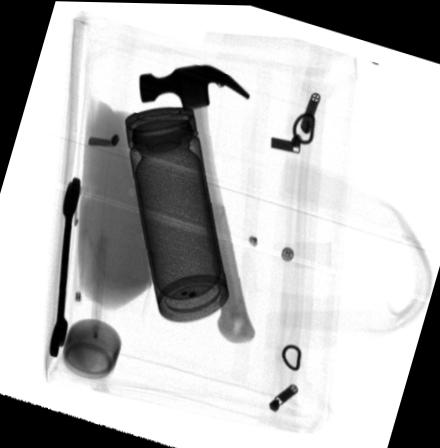Hammer: (139, 64, 255, 340)
Wrench: (48, 178, 79, 356)
